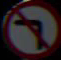Don't turn left: (2, 9, 51, 50)
